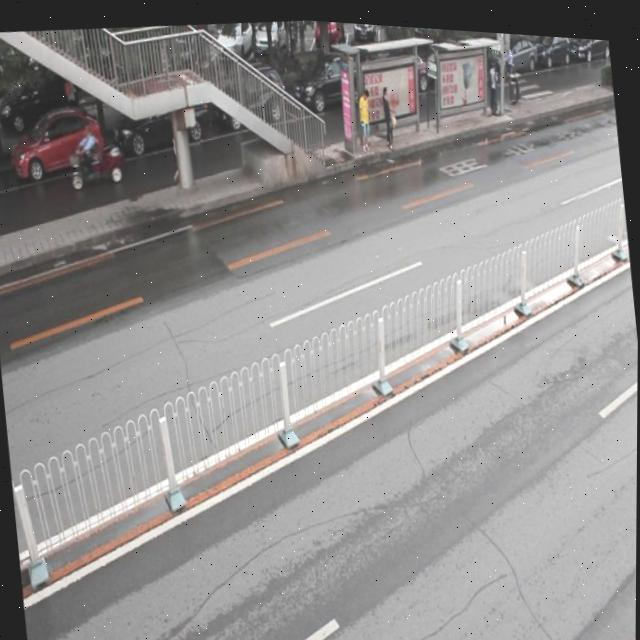car: (9, 104, 109, 187), (109, 82, 214, 155), (290, 42, 376, 116), (212, 59, 292, 136)
